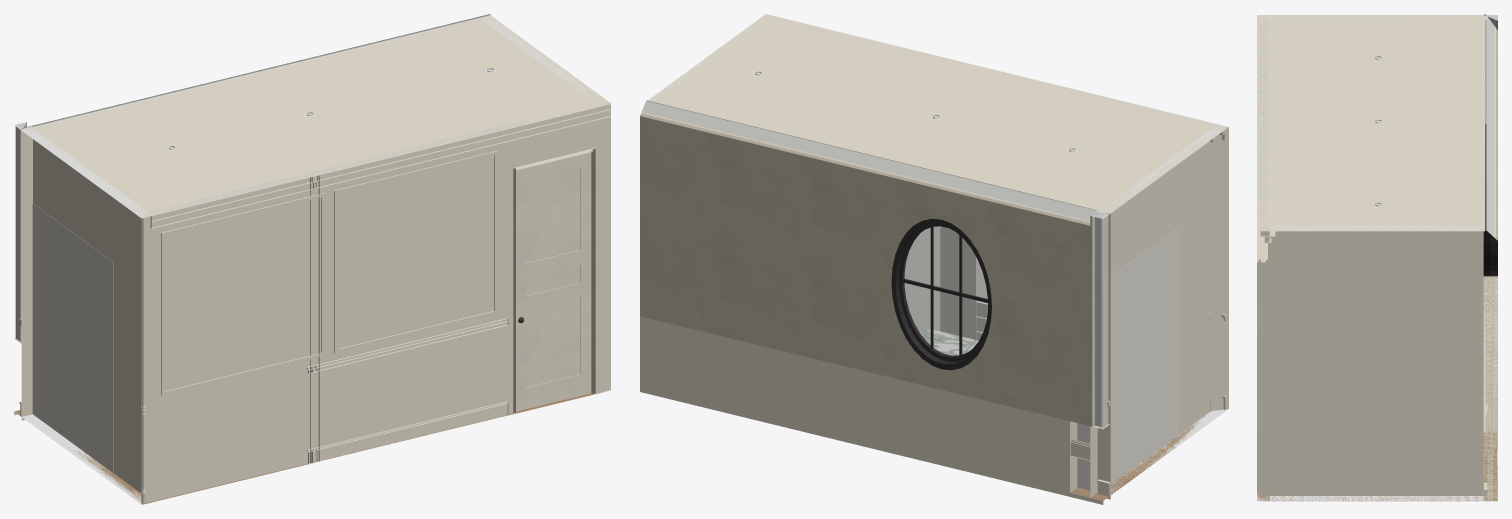
File: primary-loli-closet-570da5e8a951.glb
The picture shows the model from 3 angles, left to right: view 1: azimuth 30°, elevation 25°; view 2: azimuth 150°, elevation 25°; view 3: azimuth 270°, elevation 25°; orthographic projection. The views are drawn at different scales.
Parts seen in each view (by area): view 1: primary-loli-closet-21ac2ed1b4475155, primary-loli-closet-9d91b47435c6fb33, primary-loli-closet-6d601da8073fdc0e, primary-loli-closet-77b772996f7f67b8, primary-loli-closet-69af8f587252f9fa, primary-loli-closet-e7983be95ab098c1, primary-loli-closet-e48b5483df8cacdb, primary-loli-closet-40ba494a131a1b09, primary-loli-closet-c8a93ab7b69c3b53, primary-loli-closet-9e6cdde78fc443e1, primary-loli-closet-08e5178be0cf1e43, primary-loli-closet-3a163573517a0810 (+9 smaller); view 2: primary-loli-closet-3763e2fb8578d282, primary-loli-closet-9d91b47435c6fb33, primary-loli-closet-3a806c711886e947, primary-loli-closet-69af8f587252f9fa, primary-loli-closet-77b772996f7f67b8, primary-loli-closet-36e90e3a4ab3386f, primary-loli-closet-91eb0f90e9e94d87, primary-loli-closet-28fa16303b99ff8f, primary-loli-closet-2575515a05775d9e, primary-loli-closet-254dccfc69fd7b68, primary-loli-closet-3a163573517a0810, primary-loli-closet-4717698be62d0b44 (+6 smaller); view 3: primary-loli-closet-95b94d4b81cfb474, primary-loli-closet-9d91b47435c6fb33, primary-loli-closet-3a806c711886e947, primary-loli-closet-91eb0f90e9e94d87, primary-loli-closet-21ac2ed1b4475155, primary-loli-closet-9e6cdde78fc443e1, primary-loli-closet-4717698be62d0b44, primary-loli-closet-3a163573517a0810, primary-loli-closet-2575515a05775d9e, primary-loli-closet-982e9316be37b1b4, primary-loli-closet-36e90e3a4ab3386f, primary-loli-closet-942c52dd436cf41a (+6 smaller).
Boxes of the visible parts, <box> form: primary-loli-closet-21ac2ed1b4475155: <box>142,103,611,504</box>; primary-loli-closet-9d91b47435c6fb33: <box>21,15,611,218</box>; primary-loli-closet-6d601da8073fdc0e: <box>516,152,591,411</box>; primary-loli-closet-77b772996f7f67b8: <box>32,203,113,472</box>; primary-loli-closet-69af8f587252f9fa: <box>22,128,145,504</box>; primary-loli-closet-e7983be95ab098c1: <box>20,15,490,343</box>; primary-loli-closet-e48b5483df8cacdb: <box>310,175,319,462</box>; primary-loli-closet-40ba494a131a1b09: <box>161,193,324,395</box>; primary-loli-closet-c8a93ab7b69c3b53: <box>334,151,497,353</box>; primary-loli-closet-9e6cdde78fc443e1: <box>513,148,595,413</box>; primary-loli-closet-08e5178be0cf1e43: <box>150,104,611,228</box>; primary-loli-closet-3a163573517a0810: <box>141,98,603,211</box>; primary-loli-closet-3763e2fb8578d282: <box>640,113,1092,426</box>; primary-loli-closet-9d91b47435c6fb33: <box>647,14,1227,214</box>; primary-loli-closet-3a806c711886e947: <box>640,316,1077,492</box>; primary-loli-closet-69af8f587252f9fa: <box>1099,127,1228,495</box>; primary-loli-closet-77b772996f7f67b8: <box>1077,227,1178,490</box>; primary-loli-closet-36e90e3a4ab3386f: <box>891,218,991,370</box>; primary-loli-closet-91eb0f90e9e94d87: <box>642,100,1107,220</box>; primary-loli-closet-28fa16303b99ff8f: <box>924,226,987,340</box>; primary-loli-closet-2575515a05775d9e: <box>640,388,1205,504</box>; primary-loli-closet-254dccfc69fd7b68: <box>1093,215,1103,428</box>; primary-loli-closet-3a163573517a0810: <box>758,18,1214,142</box>; primary-loli-closet-4717698be62d0b44: <box>904,230,924,332</box>; primary-loli-closet-95b94d4b81cfb474: <box>1269,226,1483,501</box>; primary-loli-closet-9d91b47435c6fb33: <box>1257,14,1487,231</box>; primary-loli-closet-3a806c711886e947: <box>1483,276,1497,501</box>; primary-loli-closet-91eb0f90e9e94d87: <box>1485,15,1494,432</box>; primary-loli-closet-21ac2ed1b4475155: <box>1257,16,1269,501</box>; primary-loli-closet-9e6cdde78fc443e1: <box>1257,236,1265,493</box>; primary-loli-closet-4717698be62d0b44: <box>1421,297,1483,495</box>; primary-loli-closet-3a163573517a0810: <box>1268,19,1275,242</box>; primary-loli-closet-2575515a05775d9e: <box>1257,432,1497,501</box>; primary-loli-closet-982e9316be37b1b4: <box>1258,15,1266,242</box>; primary-loli-closet-36e90e3a4ab3386f: <box>1483,124,1497,276</box>; primary-loli-closet-942c52dd436cf41a: <box>1258,243,1260,495</box>.
Size of the model in its own units: 4.98 by 2.95 by 2.34.
Materials: 22 (5 with a texture image).
